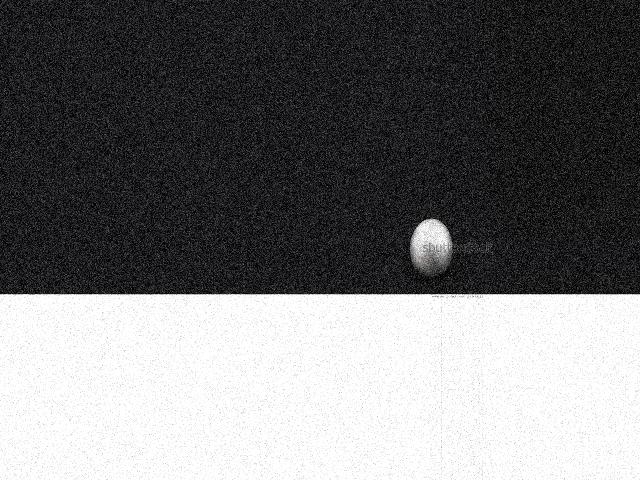egg: (409, 218, 452, 277)
